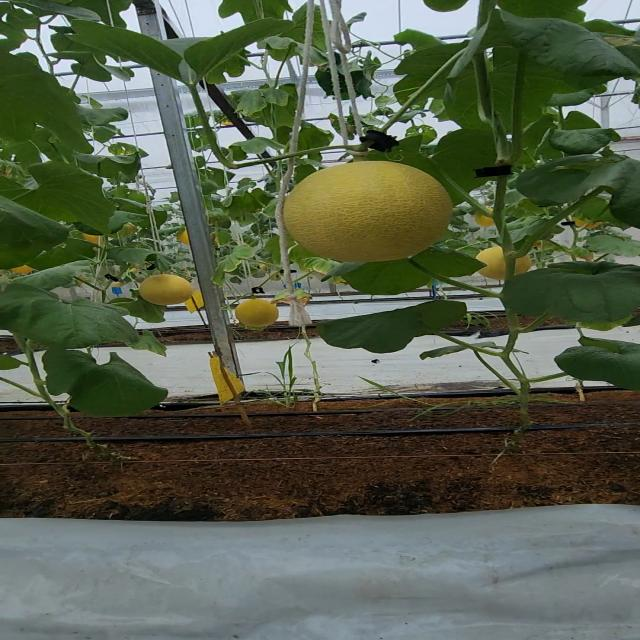Melon: (284, 154, 466, 267)
